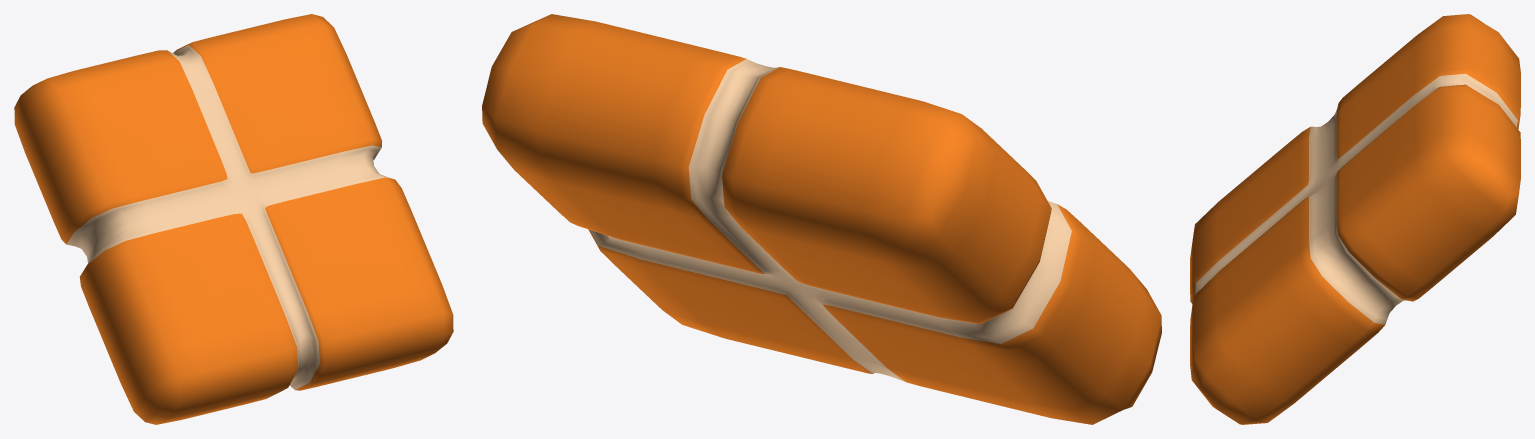
The model's file is package.glb.
The picture shows the model from 3 angles, left to right: view 1: azimuth 30°, elevation 25°; view 2: azimuth 150°, elevation 25°; view 3: azimuth 270°, elevation 25°; orthographic projection. The views are drawn at different scales.
Visible parts, largest first — view 1: Package; view 2: Package; view 3: Package.
Part boxes in pixels (x1,y1,x2,y2): Package: (14, 14, 453, 424); Package: (482, 14, 1161, 424); Package: (1190, 14, 1520, 424).
Bounding box in the file's own units: 0.5435 × 0.4573 × 0.4897.
Materials: 1 (1 with a texture image).
